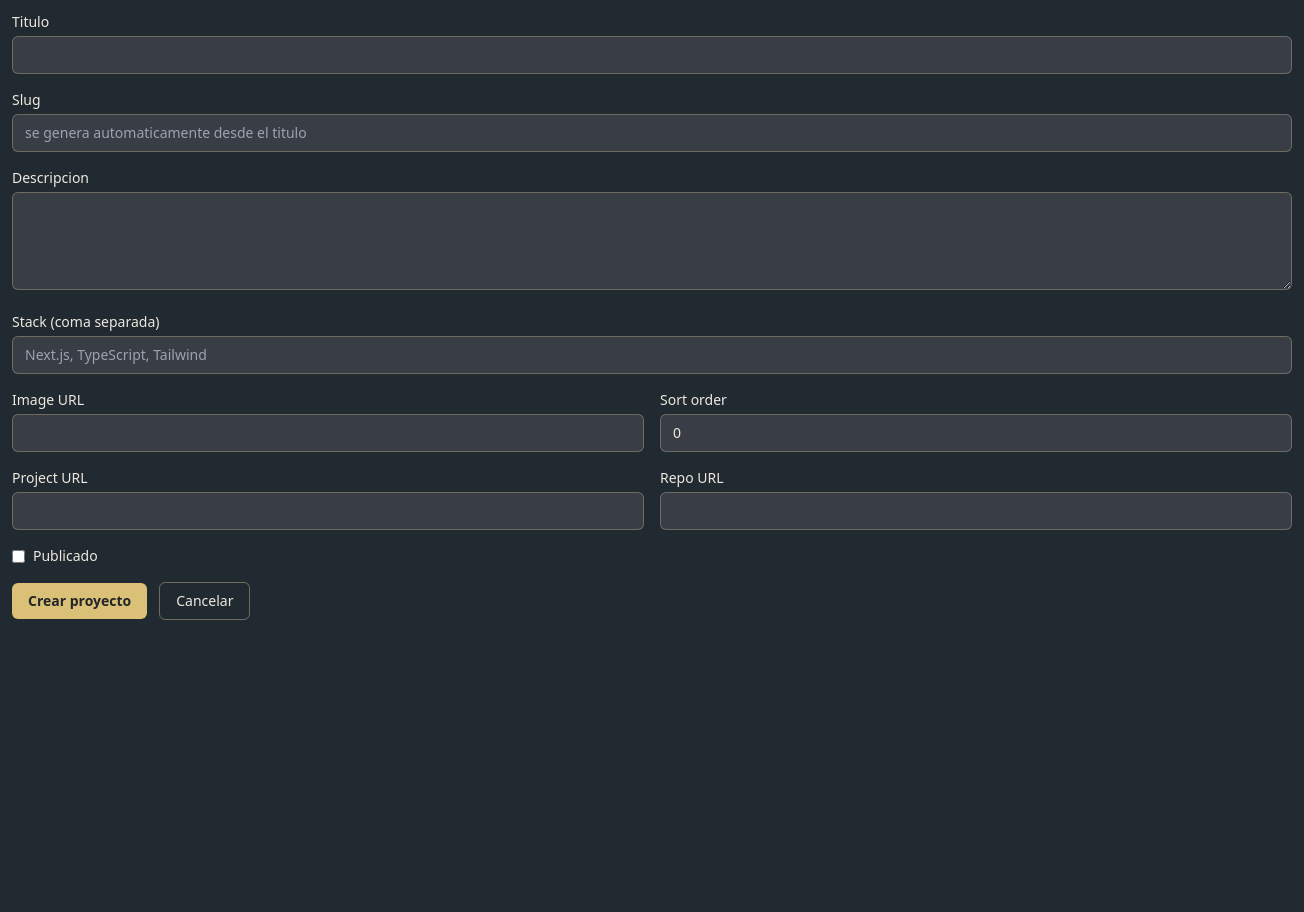
Test: AdminProjectForm › shows actionable message when API returns conflict
The width and height of the screenshot is (1304, 912).
Expected: the text box named "description" is shown, 12,192 -> 1292,290
Type "Demo Project" into the field named "title" below "Titulo" at (652, 55), box 12,36 -> 1292,74
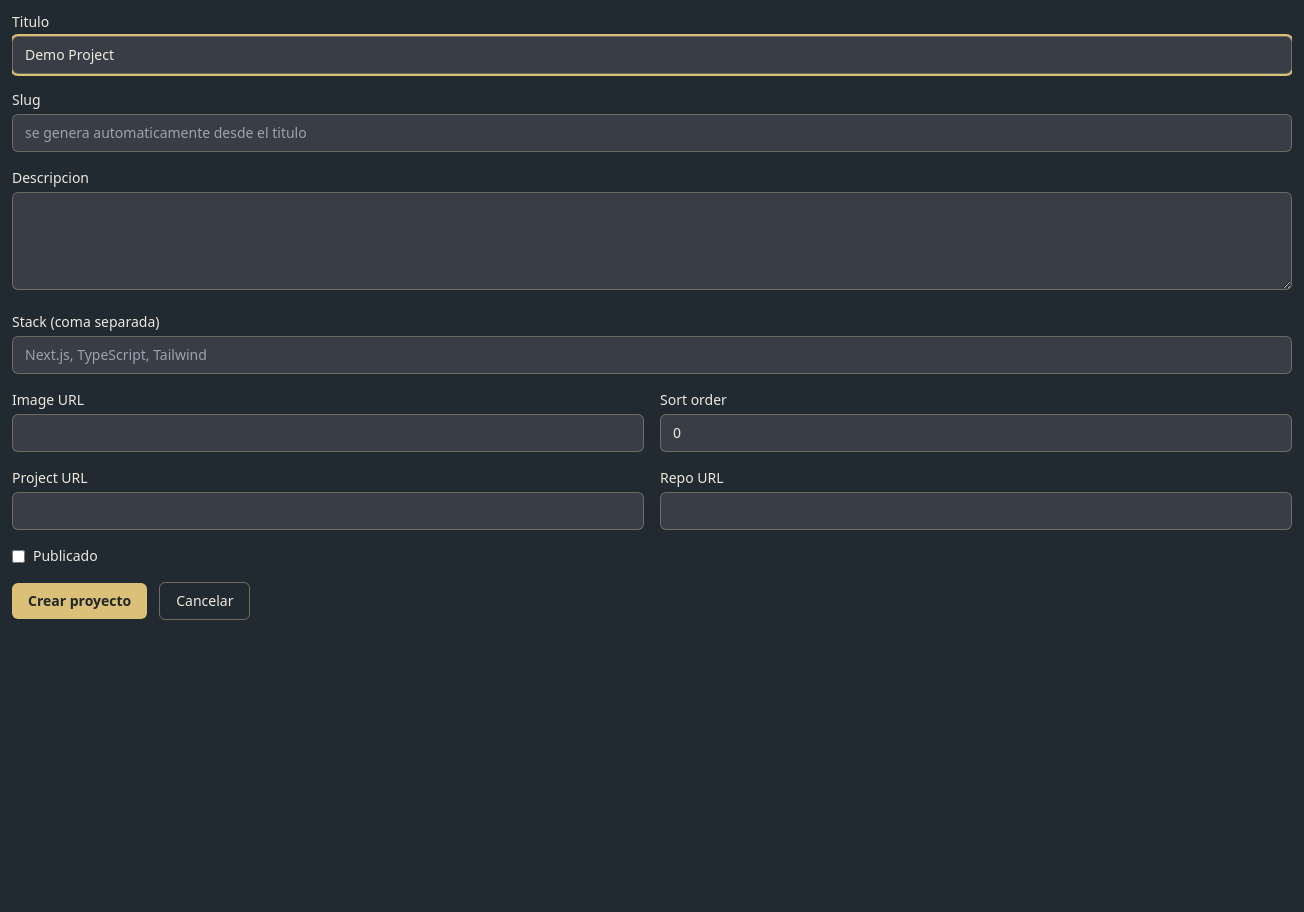
Type "Demo description" into the text box named "description" at (652, 241), box 12,192 -> 1292,290
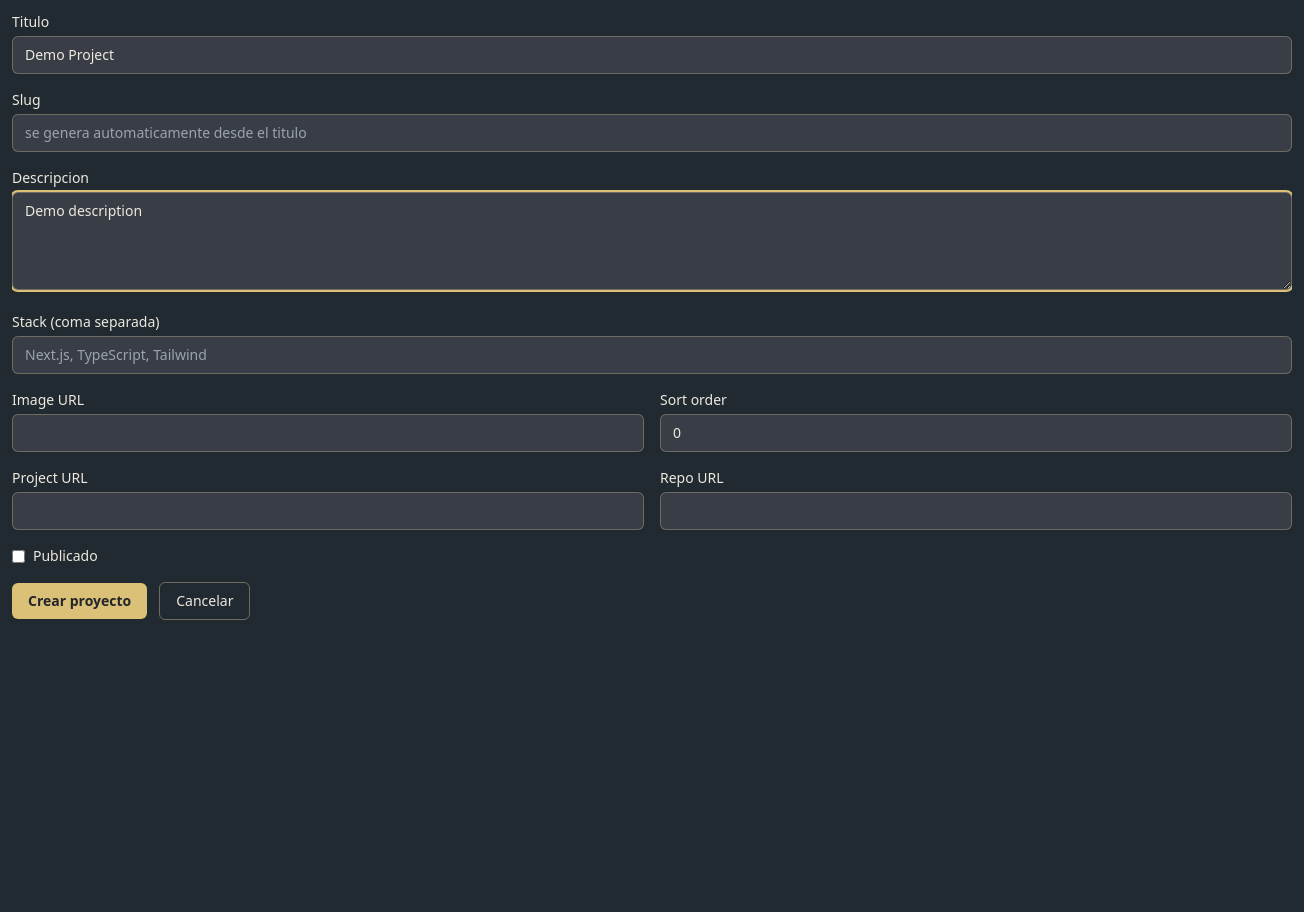
Click the button "Crear proyecto" at (80, 601), box 12,583 -> 147,619
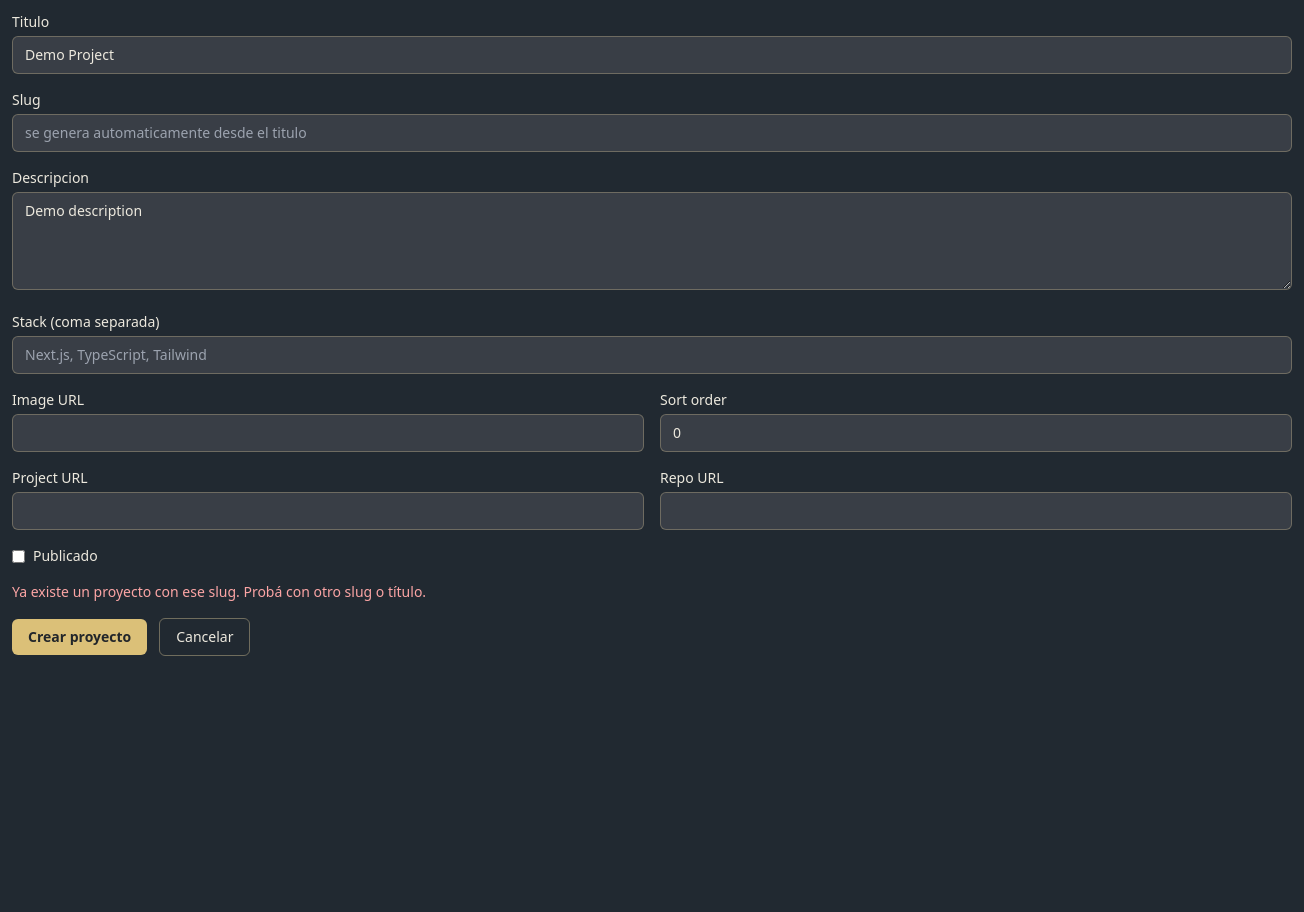
Expected: the text "Ya existe un proyecto con ese slug. Probá con otro slug o título." is shown, 12,582 -> 426,601
